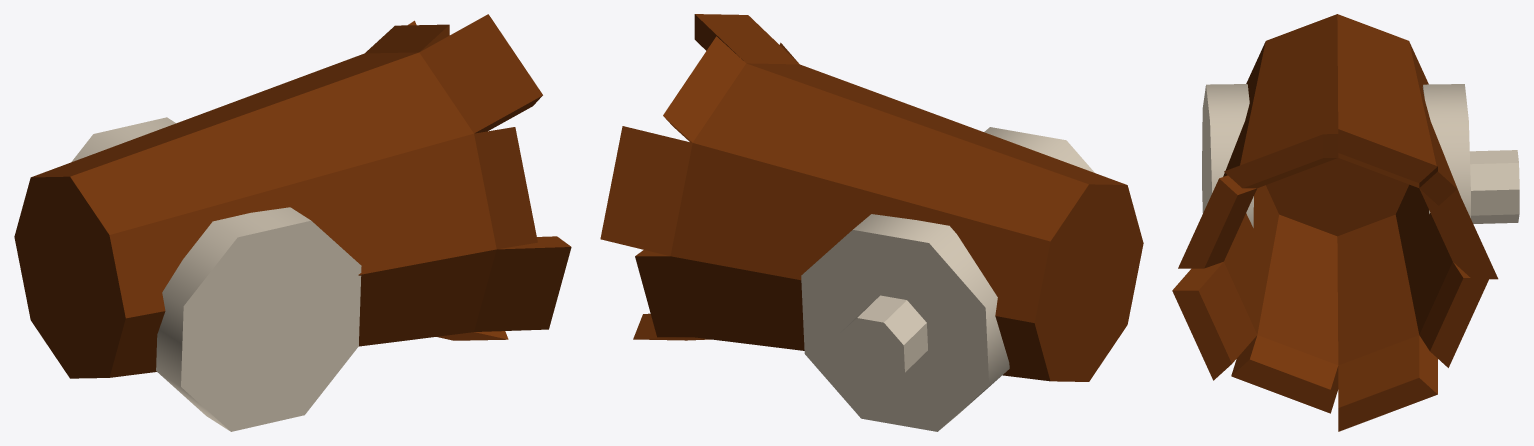
The model's file is CANNON1.FBX.
3 views of the same model, side by side, from view 1: azimuth 30°, elevation 25°; view 2: azimuth 150°, elevation 25°; view 3: azimuth 270°, elevation 25° (orthographic). The views are drawn at different scales.
Parts seen in each view (by area): view 1: Cylinder060, Cylinder061, Cylinder059; view 2: Cylinder060, Cylinder059, Cylinder061; view 3: Cylinder060, Cylinder059, Cylinder061.
Part boxes in pixels (x1=…): Cylinder060: x1=14, y1=14, x2=571, y2=378; Cylinder061: x1=156, y1=207, x2=361, y2=431; Cylinder059: x1=71, y1=117, x2=175, y2=162; Cylinder060: x1=600, y1=14, x2=1143, y2=381; Cylinder059: x1=801, y1=214, x2=1009, y2=431; Cylinder061: x1=984, y1=127, x2=1094, y2=172; Cylinder060: x1=1172, y1=14, x2=1498, y2=431; Cylinder059: x1=1422, y1=84, x2=1519, y2=223; Cylinder061: x1=1202, y1=84, x2=1253, y2=227.
Size of the model in its own units: 229 by 174 by 185.
